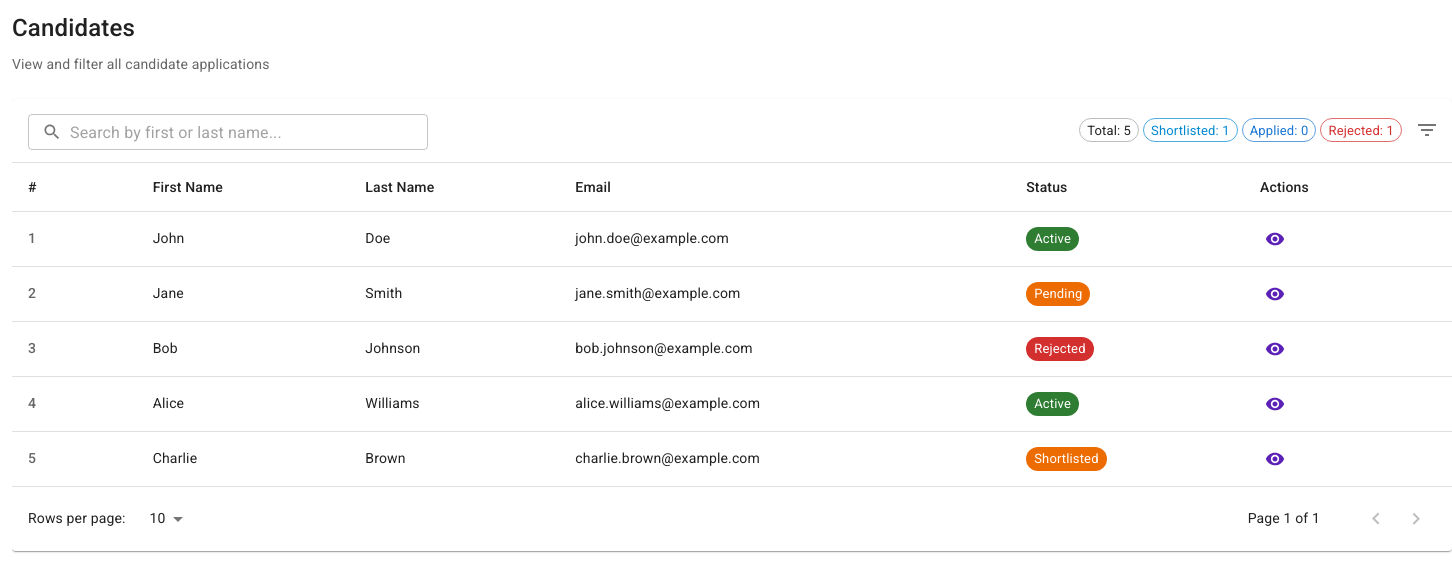
Scenario: CandidatesListPage › should filter candidates by search term
This screenshot has width=1452, height=570.
Expected: the text "John" is shown, [137,212,349,266]
Type "Jane" into the field with placeholder "Search by first or last name..." at coordinates (249, 132), box [70,112,428,152]
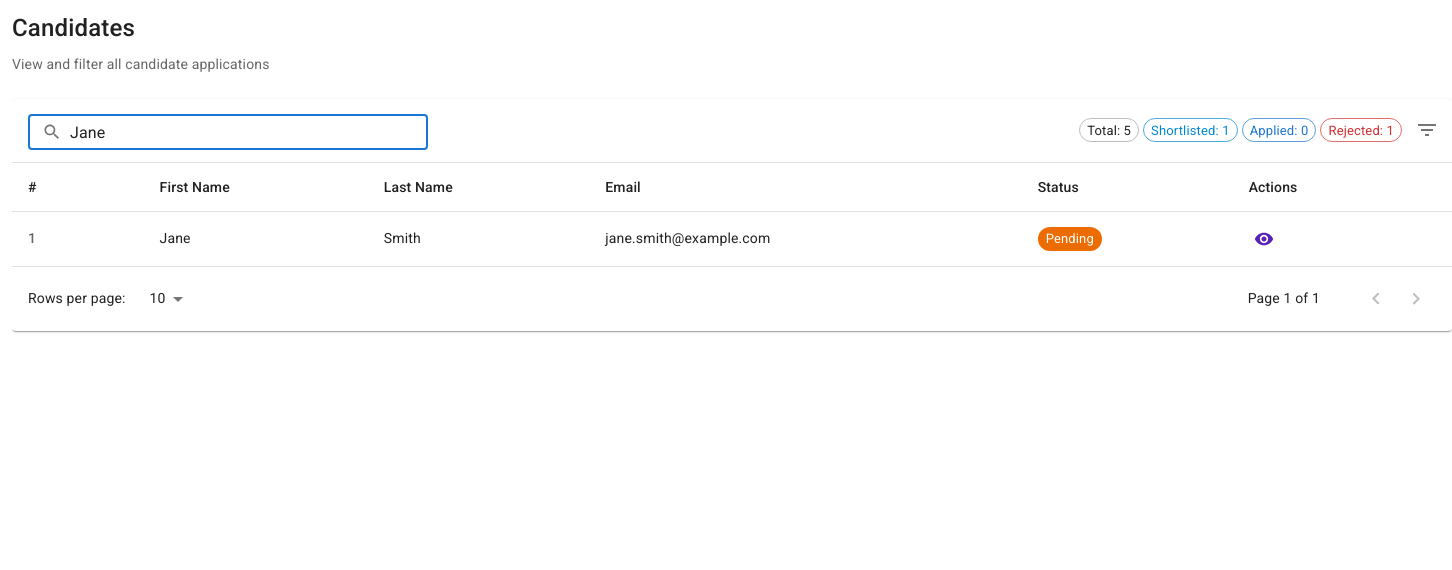
Expected: the text "Jane" is shown, [144,212,368,266]
Expected: the text "John" is gone
